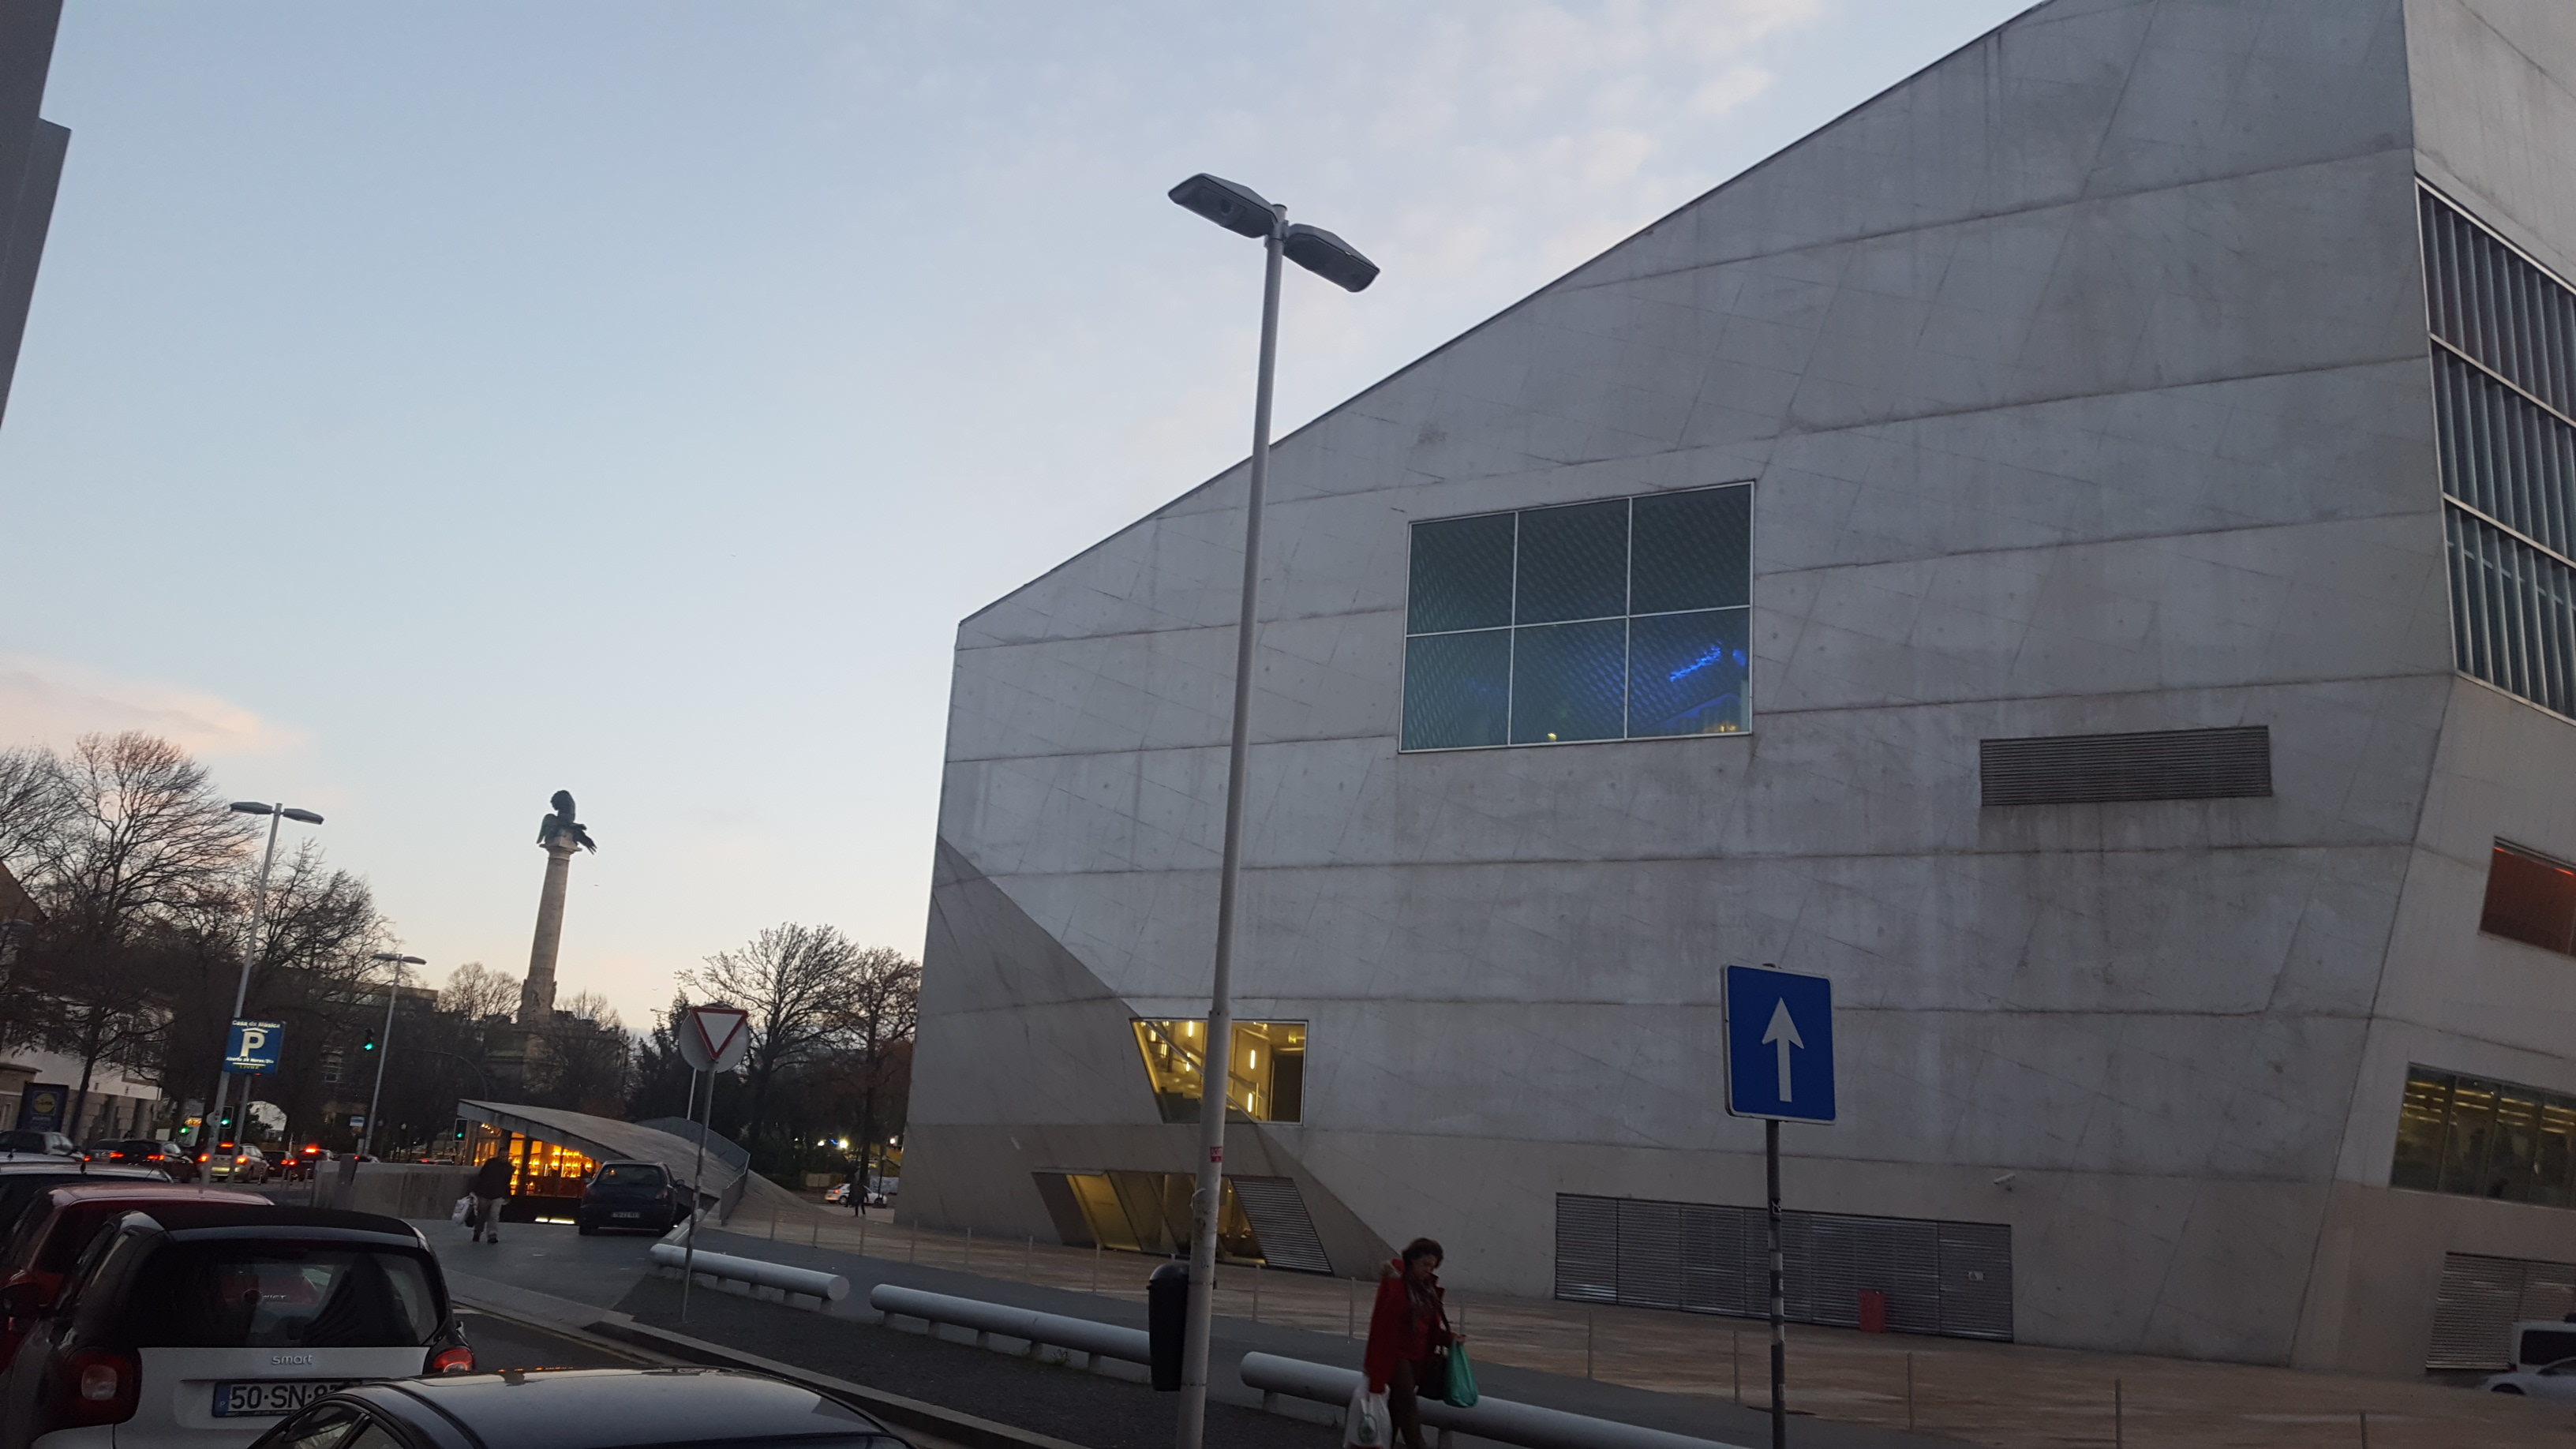musica: (895, 0, 2576, 1235)
